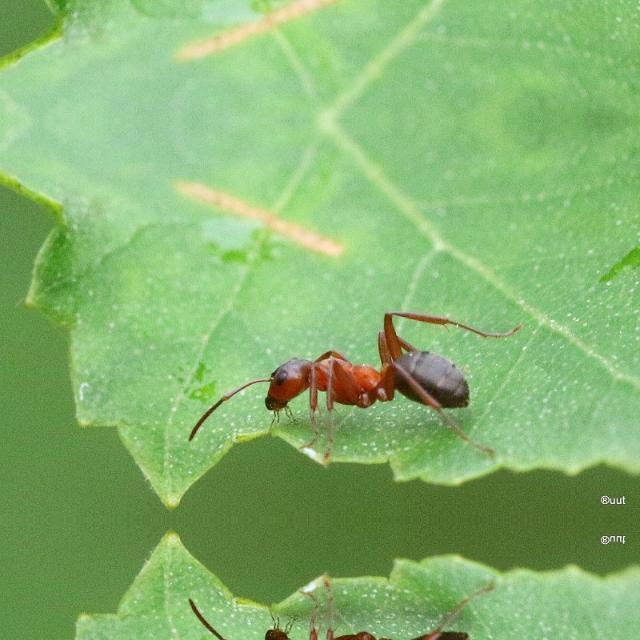Formica: (237, 299, 481, 446), (237, 590, 481, 640)
